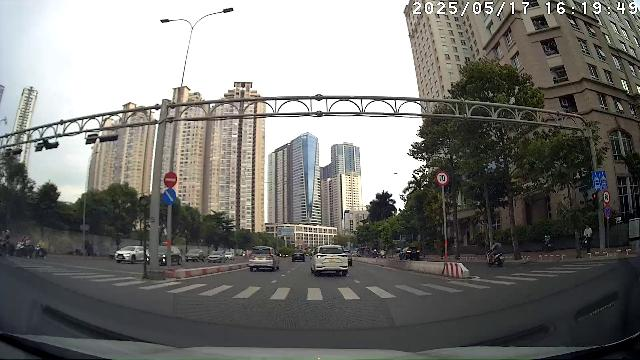127-toc-do-toi-da-60: (602, 190, 612, 205)
127-toc-do-toi-da-70: (435, 170, 449, 186)
